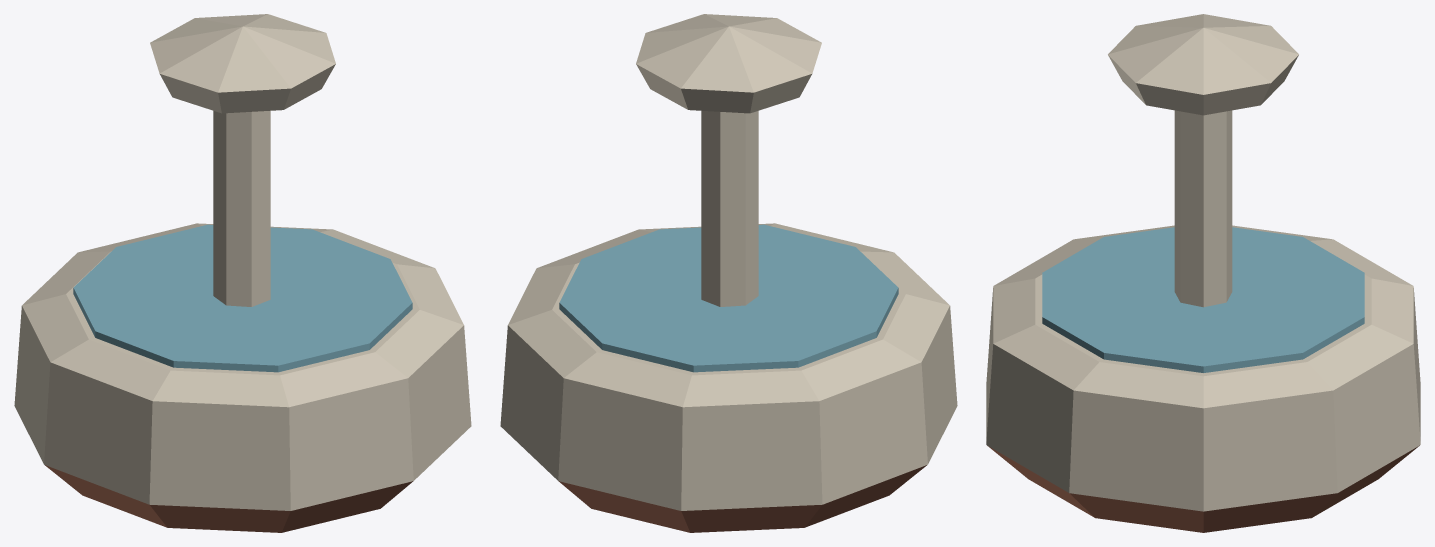
File: fountain_stone.glb
3 views of the same model, side by side, from view 1: azimuth 30°, elevation 25°; view 2: azimuth 150°, elevation 25°; view 3: azimuth 270°, elevation 25° (orthographic).
Parts seen in each view (by area): view 1: fountain_stone; view 2: fountain_stone; view 3: fountain_stone.
Part boxes in pixels (bbox=[...]): fountain_stone: bbox=[14, 14, 471, 532]; fountain_stone: bbox=[500, 14, 957, 532]; fountain_stone: bbox=[986, 14, 1420, 532].
Bounding box in the file's own units: 1.24 × 1.28 × 1.18.
